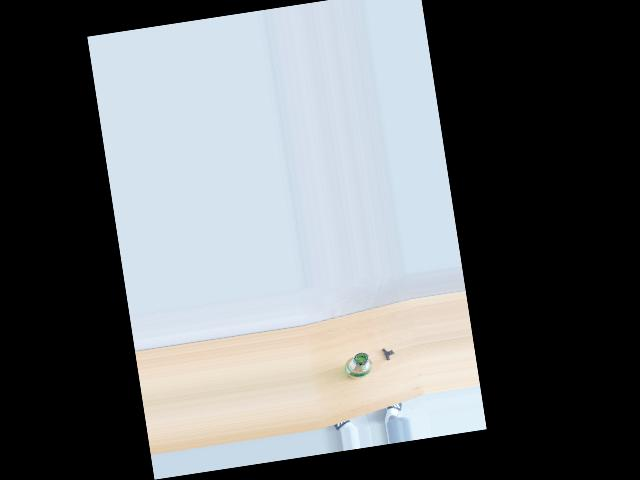beer: (342, 351, 374, 381)
